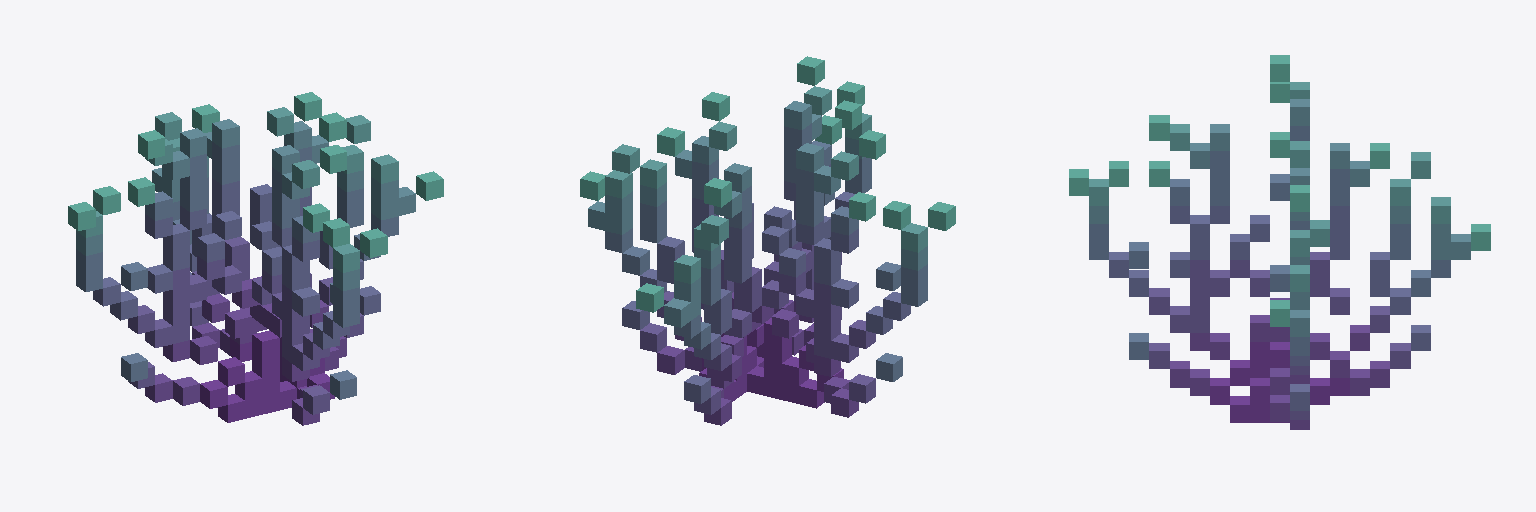
3 views of the same model, side by side, from view 1: azimuth 30°, elevation 25°; view 2: azimuth 150°, elevation 25°; view 3: azimuth 270°, elevation 25° (orthographic).
Parts seen in each view (by area): view 1: object 1; view 2: object 1; view 3: object 1.
Boxes of the visible parts, box(x1,y1,x2,y2) form: object 1: box(68, 92, 443, 425); object 1: box(580, 56, 955, 425); object 1: box(1069, 55, 1490, 429).
Bounding box in the file's own units: 2.1 × 1.6 × 2.1.
Materials: 1 (1 with a texture image).